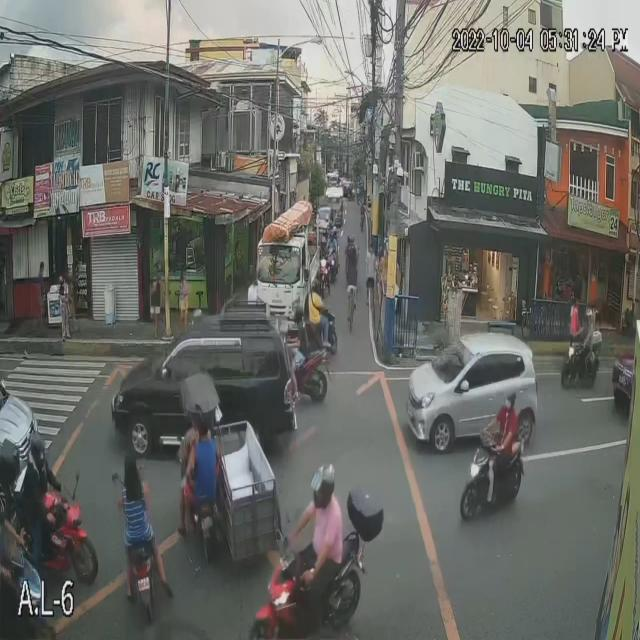Full-Faced: (306, 456, 338, 510), (21, 428, 48, 468), (288, 296, 306, 328), (584, 306, 596, 331), (345, 228, 357, 249)
Not-Wearing-Helmet: (502, 382, 518, 417)
